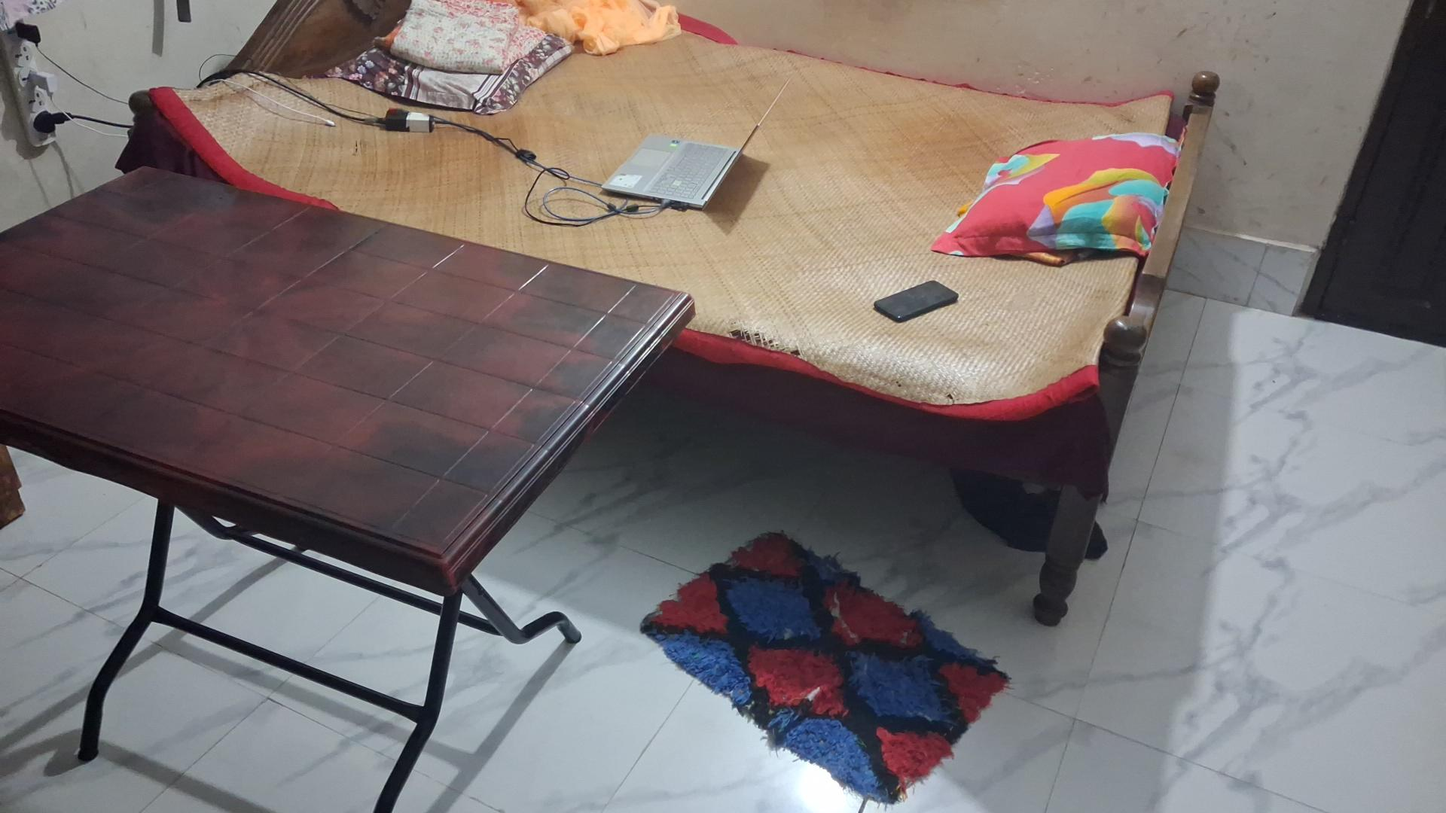Basket: (379, 2, 545, 72)
Floor Mat: (635, 531, 1013, 807)
Laptop: (599, 77, 813, 212)
Phone: (871, 280, 961, 323)
Pillow: (939, 133, 1183, 263)
Table: (5, 163, 696, 813)
